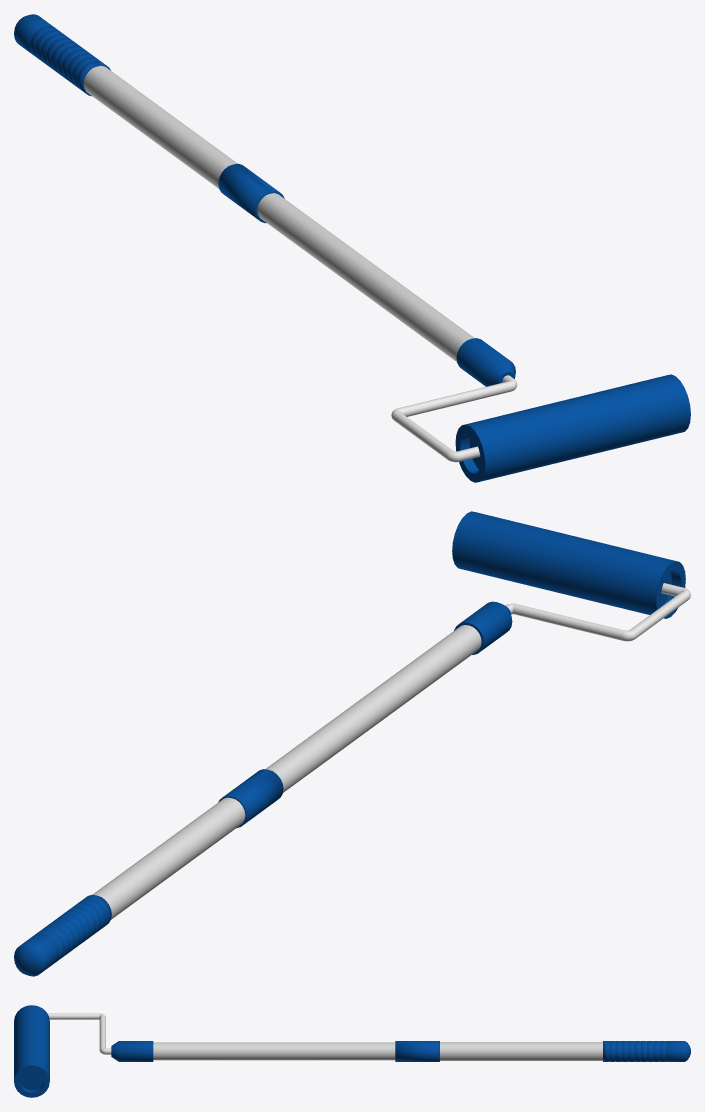
Rendered from paint_roller_new.fbx.
The picture shows the model from 3 angles, top to bottom: view 1: azimuth 30°, elevation 25°; view 2: azimuth 150°, elevation 25°; view 3: azimuth 270°, elevation 25°; orthographic projection. The views are drawn at different scales.
Parts seen in each view (by area): view 1: handle; view 2: handle; view 3: handle.
Boxes of the visible parts, x1,y1,x2,y2 form: handle: [14, 14, 690, 482]; handle: [14, 511, 690, 976]; handle: [14, 1005, 690, 1097].
Bounding box in the file's own units: 17.84 × 4.07 × 76.77.
